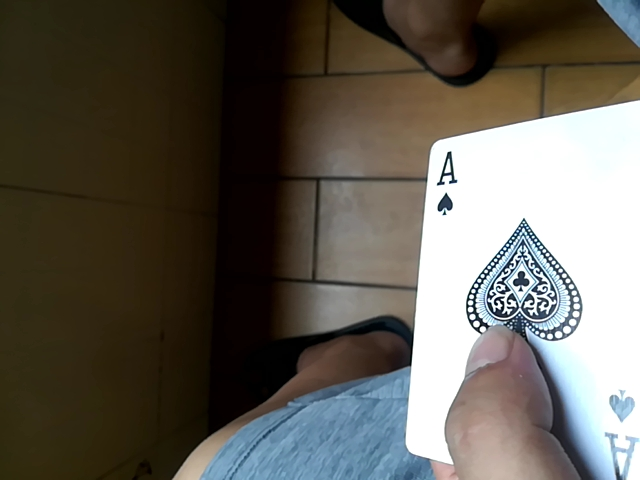ht a: (404, 81, 637, 472)
